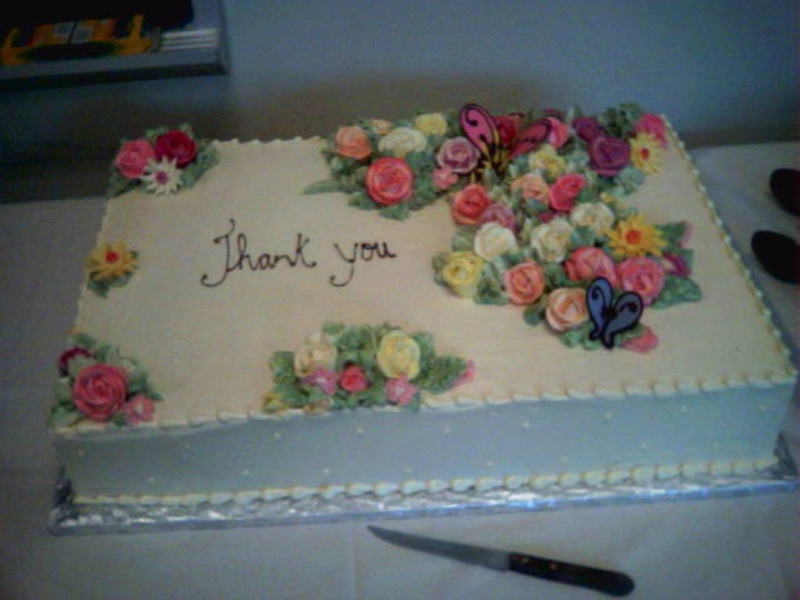knife: (251, 228, 797, 600)
